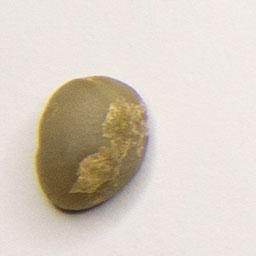premium: (32, 74, 153, 213)
